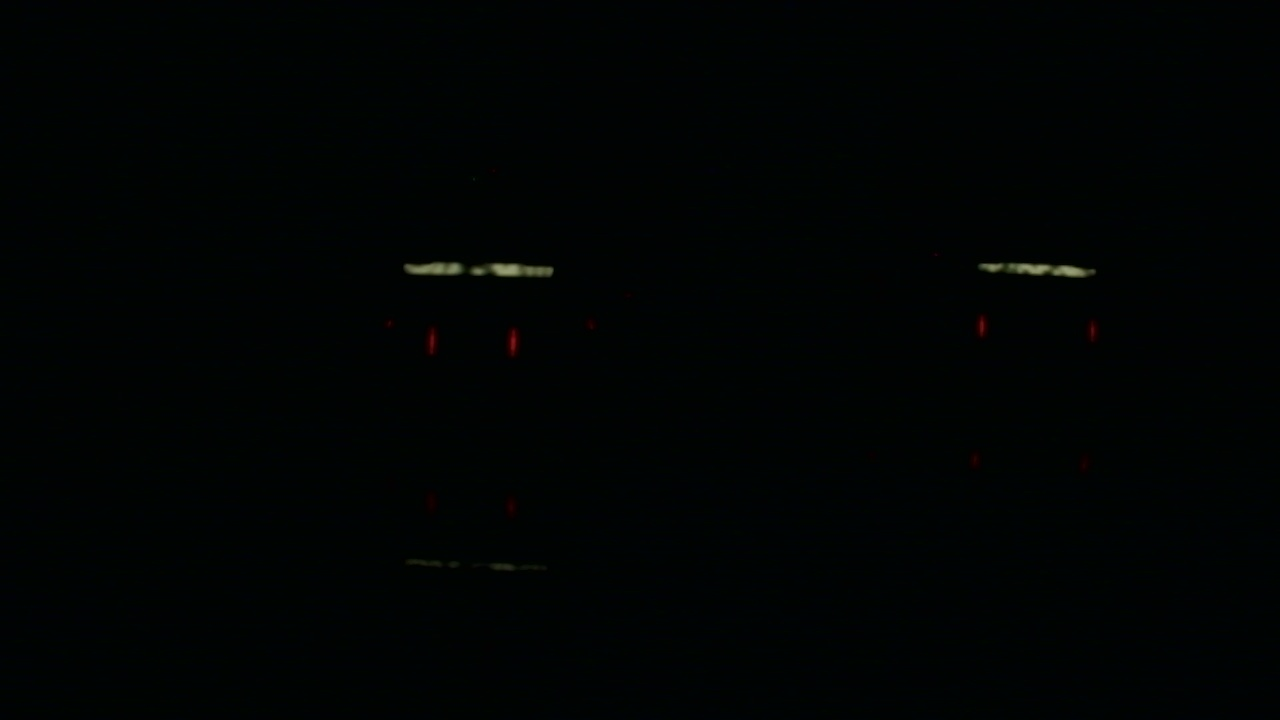lamp: (507, 327, 518, 355), (977, 314, 986, 341), (429, 327, 437, 355), (1089, 315, 1096, 343)
pair1: (428, 328, 516, 355)
pair2: (977, 316, 1097, 342)
